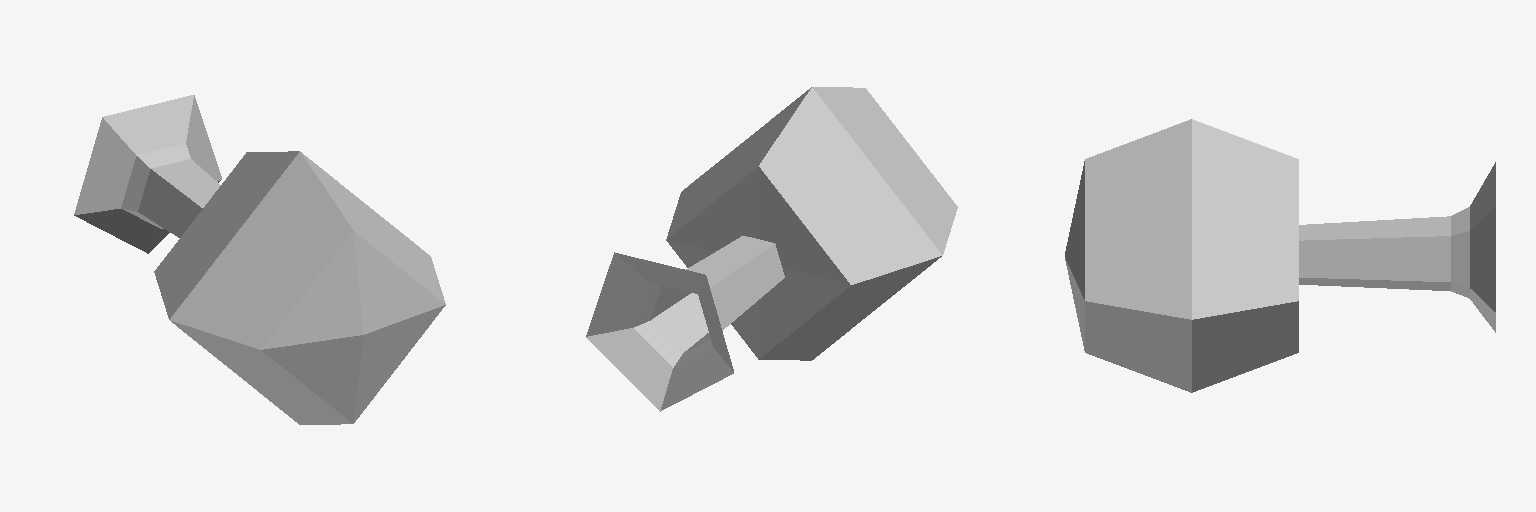
File: tree.obj
The picture shows the model from 3 angles: view 1: azimuth 30°, elevation 25°; view 2: azimuth 150°, elevation 25°; view 3: azimuth 270°, elevation 25°; orthographic projection.
Parts seen in each view (by area): view 1: pCylinder4_Mesh; view 2: pCylinder4_Mesh; view 3: pCylinder4_Mesh.
Boxes of the visible parts, box(x1,y1,x2,y2) form: pCylinder4_Mesh: box(74, 95, 445, 424); pCylinder4_Mesh: box(586, 87, 957, 411); pCylinder4_Mesh: box(1065, 119, 1495, 392).
Size of the model in its own units: 3.39 by 3.39 by 4.83.